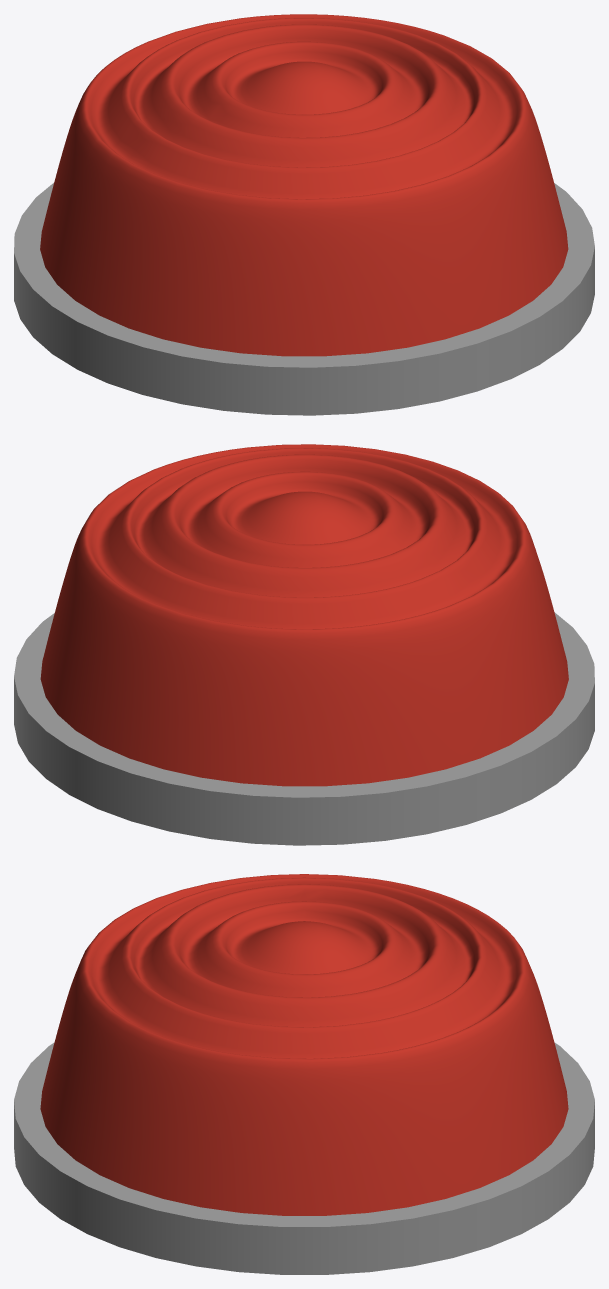
The model's file is Indicator A Bare Red.obj.
3 renders of one model, top to bottom at view 1: azimuth 30°, elevation 25°; view 2: azimuth 150°, elevation 25°; view 3: azimuth 270°, elevation 25°, orthographic.
Visible parts, largest first — view 1: Body1; view 2: Body1; view 3: Body1.
Part boxes in pixels (x1,y1,x2,y2): Body1: [14, 14, 594, 415]; Body1: [14, 444, 594, 845]; Body1: [14, 874, 594, 1274].
Bounding box in the file's own units: 2.2 × 0.9346 × 2.2.
